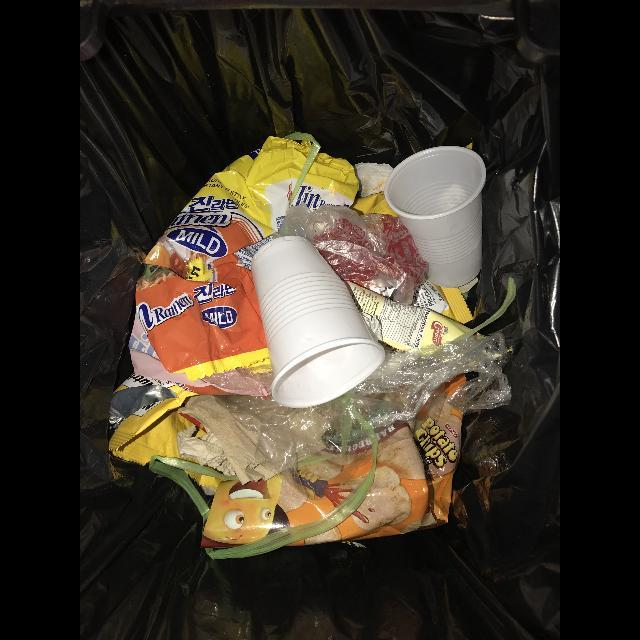paper: (177, 395, 280, 485)
plastic: (251, 236, 385, 408), (384, 146, 487, 289)
wrapper: (129, 137, 360, 385), (203, 374, 467, 547), (108, 374, 203, 466)
